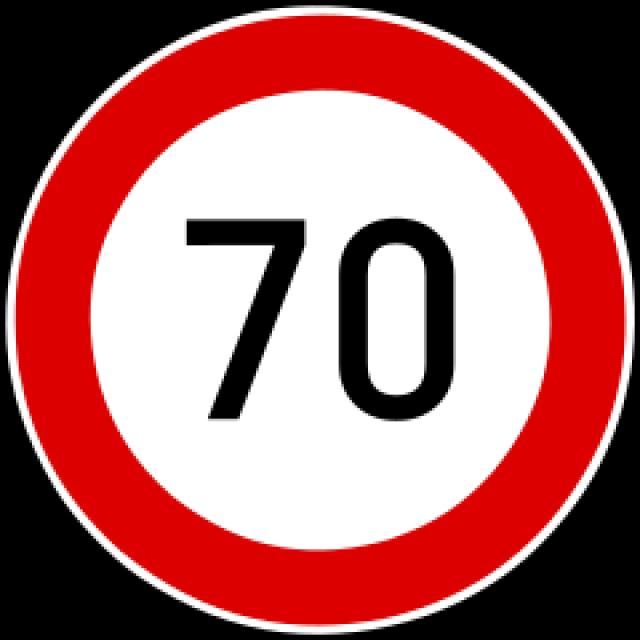Speed Limit -70-: (159, 185, 466, 449)
